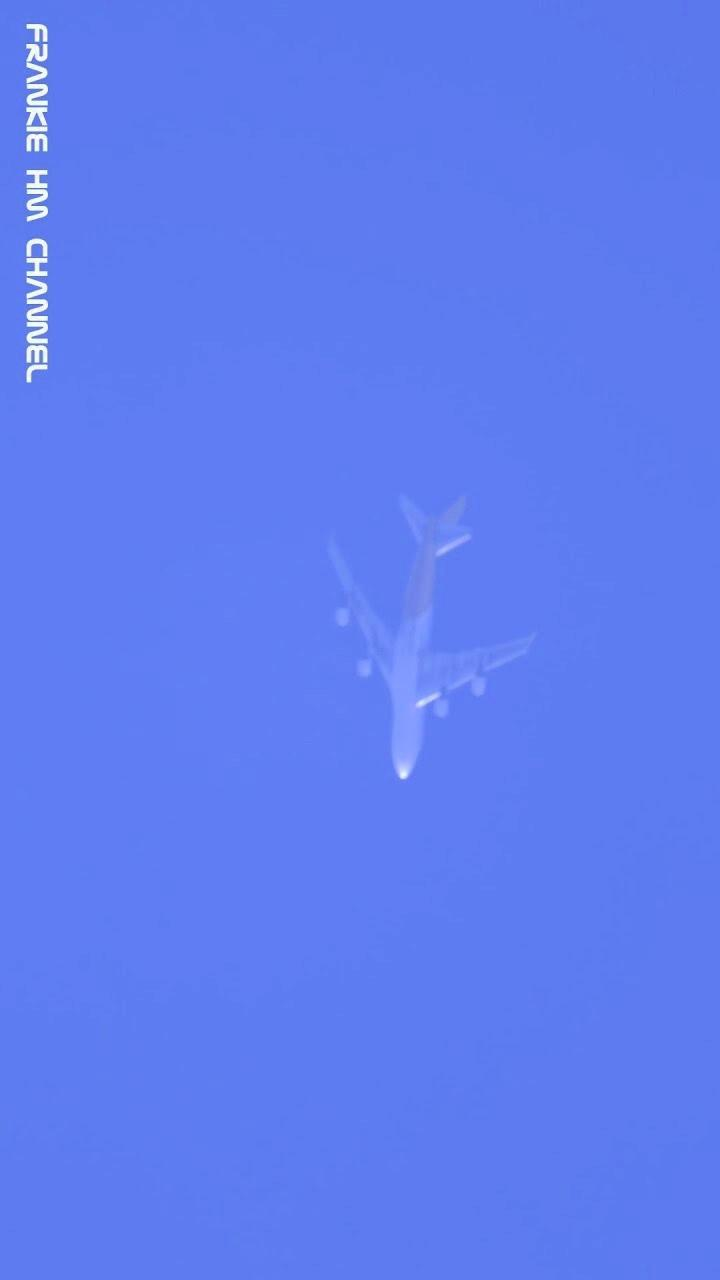Plane: (289, 460, 565, 821)
